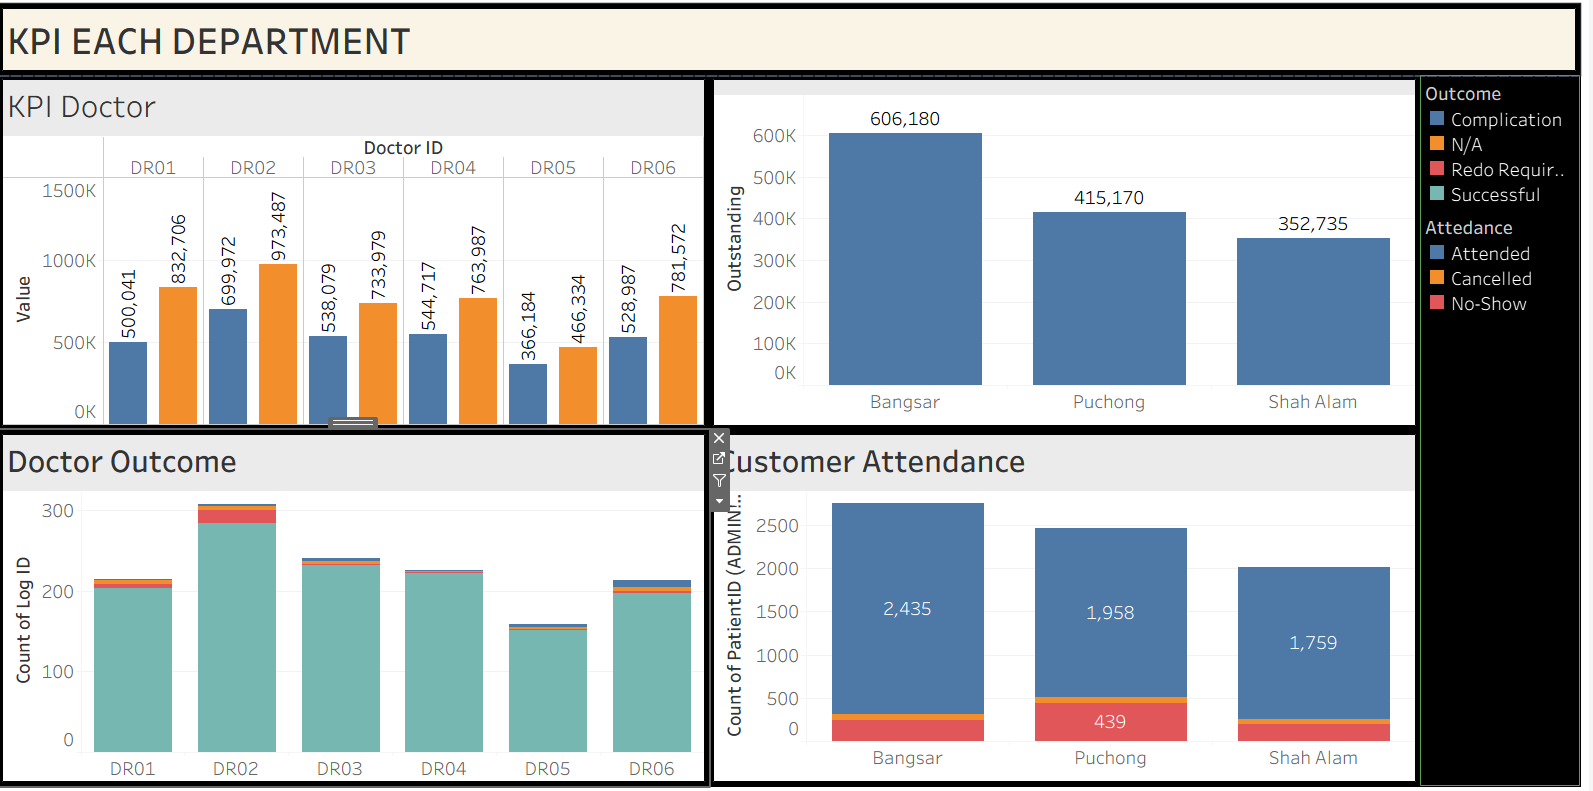

The page's visual inventory and layout, read from the dashboard file:
{"tool":"tableau","page":{"name":"Dasboard KPI","canvas":[1600,800],"ordinal":0},"visuals":[{"type":"title","box":[9,9,1582,71]},{"type":"worksheet","title":"KPI Doctor","mark":"Automatic","cols":["DoctorID"],"box":[9,80,710.9,355]},{"type":"worksheet","title":"KPI Cashier  Outstanding Debt","mark":"Automatic","rows":["Outstanding"],"cols":["Branch (CASHIER!Payments)"],"box":[719.9,80,711.1,355.5]},{"type":"legend","title":"KPI DSA  Complications","param":"[federated.1vsmmd90ndk7zf1d5eiyp1hz4tw6].[none:Outcome:nk]","box":[1432,81,158,134]},{"type":"legend","title":"KPI Admin","param":"[federated.1vsmmd90ndk7zf1d5eiyp1hz4tw6].[none:Status:nk]","box":[1432,215,158,109]},{"type":"worksheet","title":"KPI DSA  Complications","mark":"Automatic","rows":["LogID"],"cols":["DoctorID (DSA!Procedure!Log)"],"box":[9,435,710.9,356]},{"type":"worksheet","title":"KPI Admin","mark":"Automatic","rows":["PatientID (ADMIN!CS!Appointments)"],"cols":["Branch (ADMIN!CS!Appointments)"],"box":[719.9,435.5,711.1,355.5]}]}

Visuals, with their boxes in screenshot pixels (x1, y1, x2, y2), scaled from the page's 1600x800 canvas onto the 1593x791 screenshot:
title: locate(9, 9, 1584, 79)
"KPI Doctor" worksheet: locate(9, 79, 717, 430)
"KPI Cashier  Outstanding Debt" worksheet: locate(717, 79, 1425, 431)
"KPI DSA  Complications" legend: locate(1426, 80, 1583, 213)
"KPI Admin" legend: locate(1426, 213, 1583, 320)
"KPI DSA  Complications" worksheet: locate(9, 430, 717, 782)
"KPI Admin" worksheet: locate(717, 431, 1425, 782)
